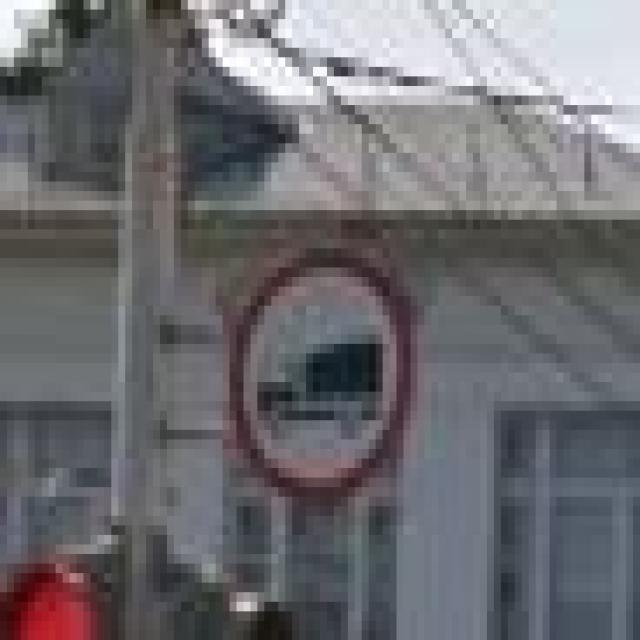traffic_sign: (230, 248, 418, 506)
